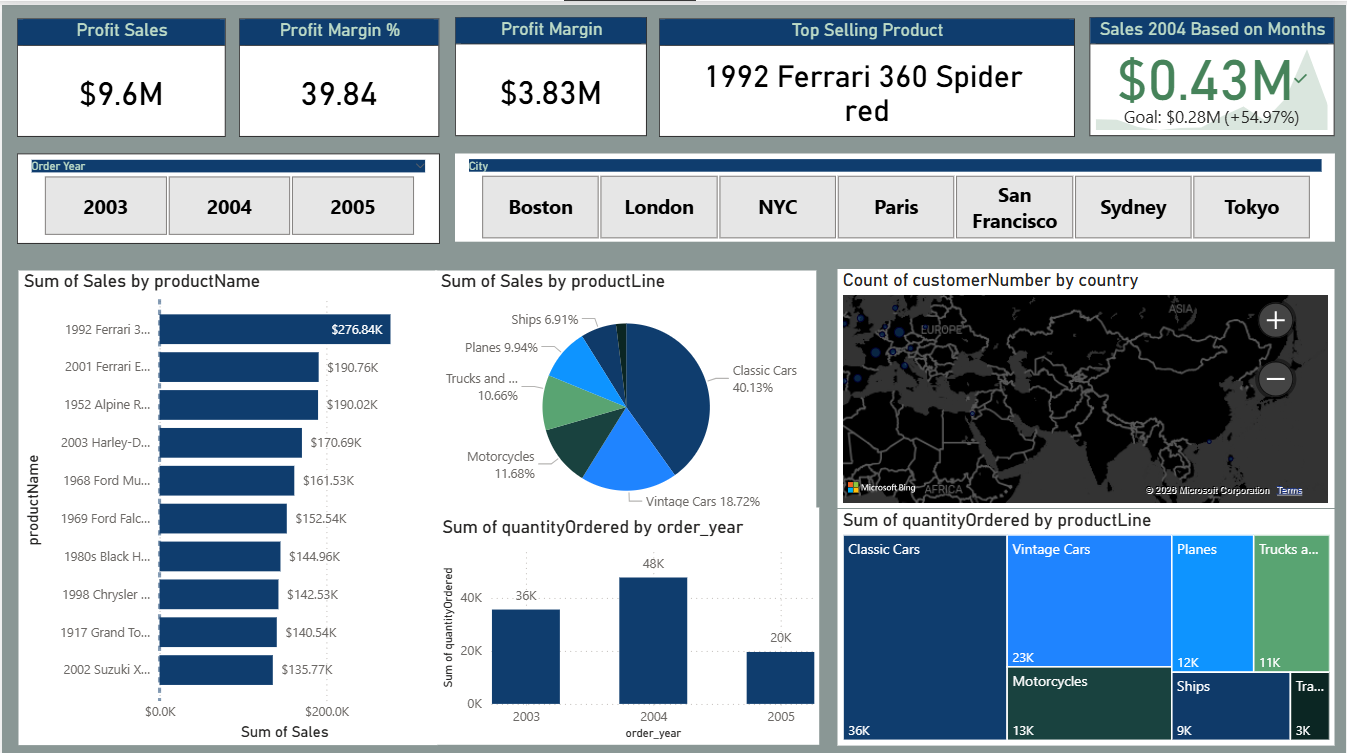

The page's visual inventory and layout, read from the dashboard file:
{"tool":"powerbi","page":{"name":"Page 1","canvas":[1280,720],"ordinal":0},"visuals":[{"type":"card","title":"Profit Margin","fields":{"Values":["order details.total_profit"]},"box":[430.7,11.3,183,113.3],"z":0},{"type":"card","title":"Top Selling Product","fields":{"Values":["order details.MostOrderedProduct"]},"box":[625.1,12.7,396.1,112.9],"z":1000},{"type":"barChart","fields":{"Category":["products.productName"],"Y":["Sum(order details.Sales)"]},"box":[15,253.3,398.3,451.7],"z":2000},{"type":"pieChart","fields":{"Category":["products.productLine"],"Y":["Sum(order details.Sales)"]},"box":[413.6,252.9,362.7,240.2],"z":3000},{"type":"slicer","fields":{"Values":["orders.order_year"]},"box":[14.3,141.6,402.4,85.9],"z":4000},{"type":"kpi","title":"Sales 2004 Based on Months","fields":{"Indicator":["orders.sales_2004"],"Goal":["orders.sales_2003"],"TrendLine":["orders.Month Name"]},"box":[1036.3,11.3,233.2,113.3],"z":5000},{"type":"map","fields":{"Size":["CountNonNull(customers.customerNumber)"],"Category":["customers.country"]},"box":[795.3,251.3,472.4,227.5],"z":6000},{"type":"treemap","fields":{"Group":["productlines.productLine"],"Values":["Sum(order details.quantityOrdered)"]},"box":[795,480,473.3,225],"z":7000},{"type":"clusteredColumnChart","fields":{"Y":["Sum(order details.quantityOrdered)"],"Category":["orders.order_year"]},"box":[413.3,480,363.3,225],"z":8000},{"type":"card","title":"Profit Margin %","fields":{"Values":["classicmodels.Profit_Margin_%"]},"box":[225.9,12.7,190.9,112.9],"z":9000},{"type":"card","title":"Profit Sales","fields":{"Values":["Sum(order details.Sales)"]},"box":[14.3,12.7,198.8,112.9],"z":10000},{"type":"slicer","fields":{"Values":["offices.city"]},"box":[431.1,141.6,838.3,84.3],"z":11000}]}

Visuals, with their boxes in screenshot pixels (x1, y1, x2, y2), scaled from the page's 1280x720 canvas onto the 1347x753 screenshot:
"Profit Margin" card: bbox=(453, 12, 646, 130)
"Top Selling Product" card: bbox=(658, 13, 1075, 131)
barChart - products.productName x Sum(order details.Sales): bbox=(16, 265, 435, 737)
pieChart - products.productLine x Sum(order details.Sales): bbox=(435, 264, 817, 516)
slicer - orders.order_year: bbox=(15, 148, 439, 238)
"Sales 2004 Based on Months" kpi: bbox=(1091, 12, 1336, 130)
map - CountNonNull(customers.customerNumber) x customers.country: bbox=(837, 263, 1334, 501)
treemap - productlines.productLine x Sum(order details.quantityOrdered): bbox=(837, 502, 1335, 737)
clusteredColumnChart - Sum(order details.quantityOrdered) x orders.order_year: bbox=(435, 502, 817, 737)
"Profit Margin %" card: bbox=(238, 13, 439, 131)
"Profit Sales" card: bbox=(15, 13, 224, 131)
slicer - offices.city: bbox=(454, 148, 1336, 236)
